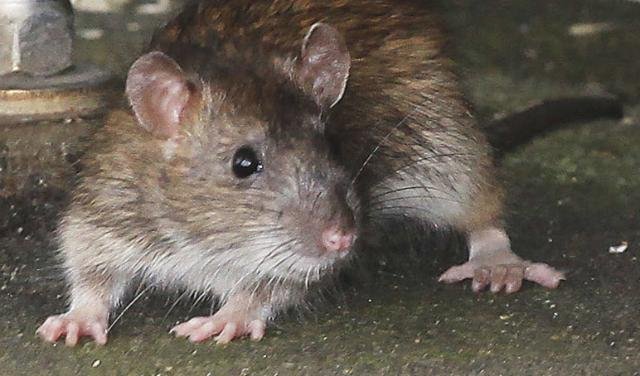rat: (24, 1, 586, 354)
